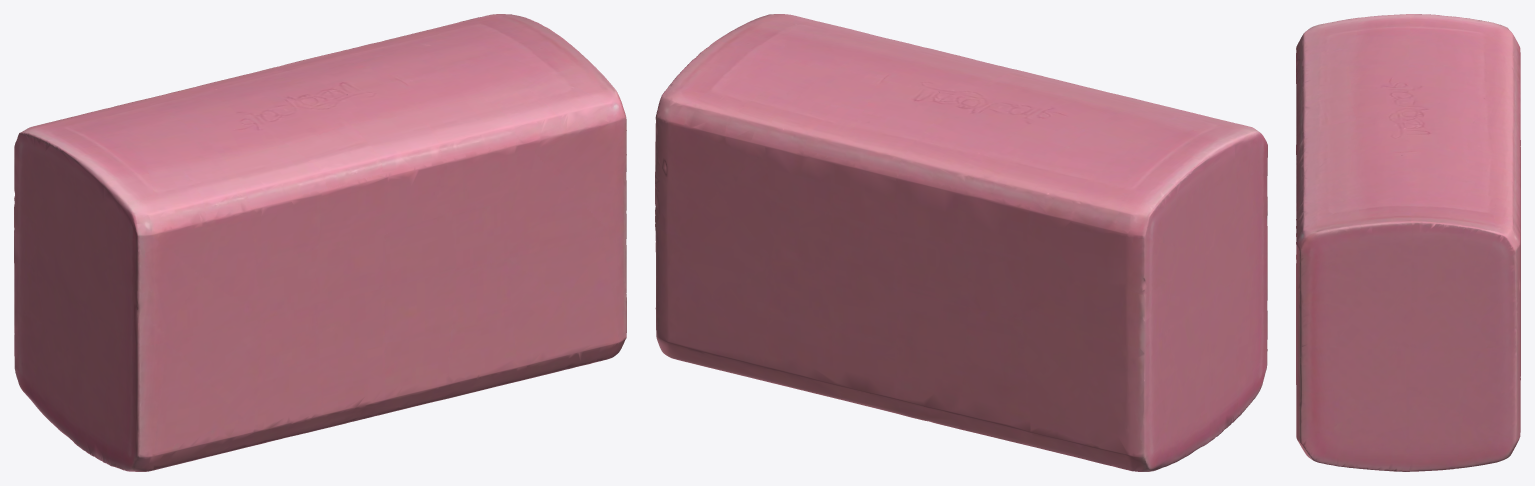
File: Meshy_AI_Pink_eraser_0323005539_texture.glb
3 renders of one model, left to right at view 1: azimuth 30°, elevation 25°; view 2: azimuth 150°, elevation 25°; view 3: azimuth 270°, elevation 25°, orthographic. The views are drawn at different scales.
Size of the model in its own units: 2.01 by 1.12 by 0.9123.
Materials: 1 (1 with a texture image).
